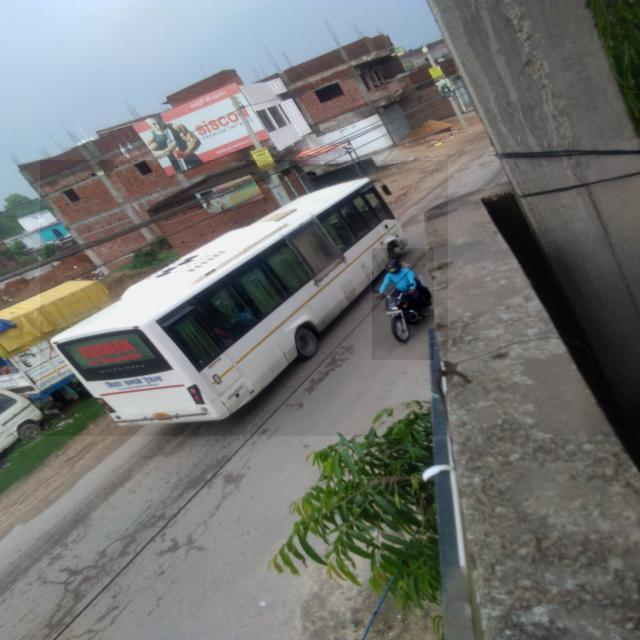Bike: (372, 248, 434, 360)
Bus: (40, 160, 448, 436)
